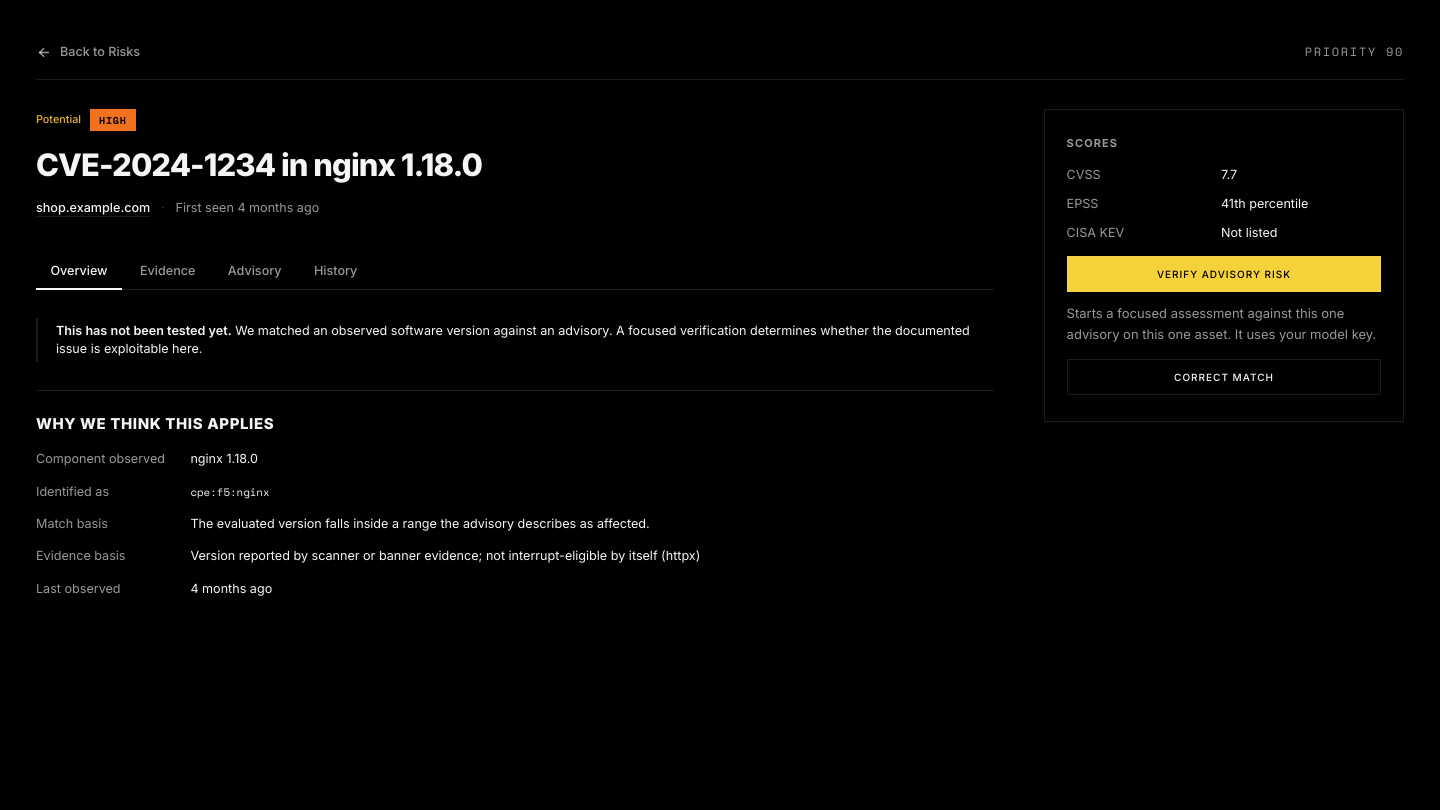
ExposureDetailPage › shows the observation and affected range behind the match
Click the tab "Evidence". click: coordinates (168, 271)
box: [126,253,210,289]
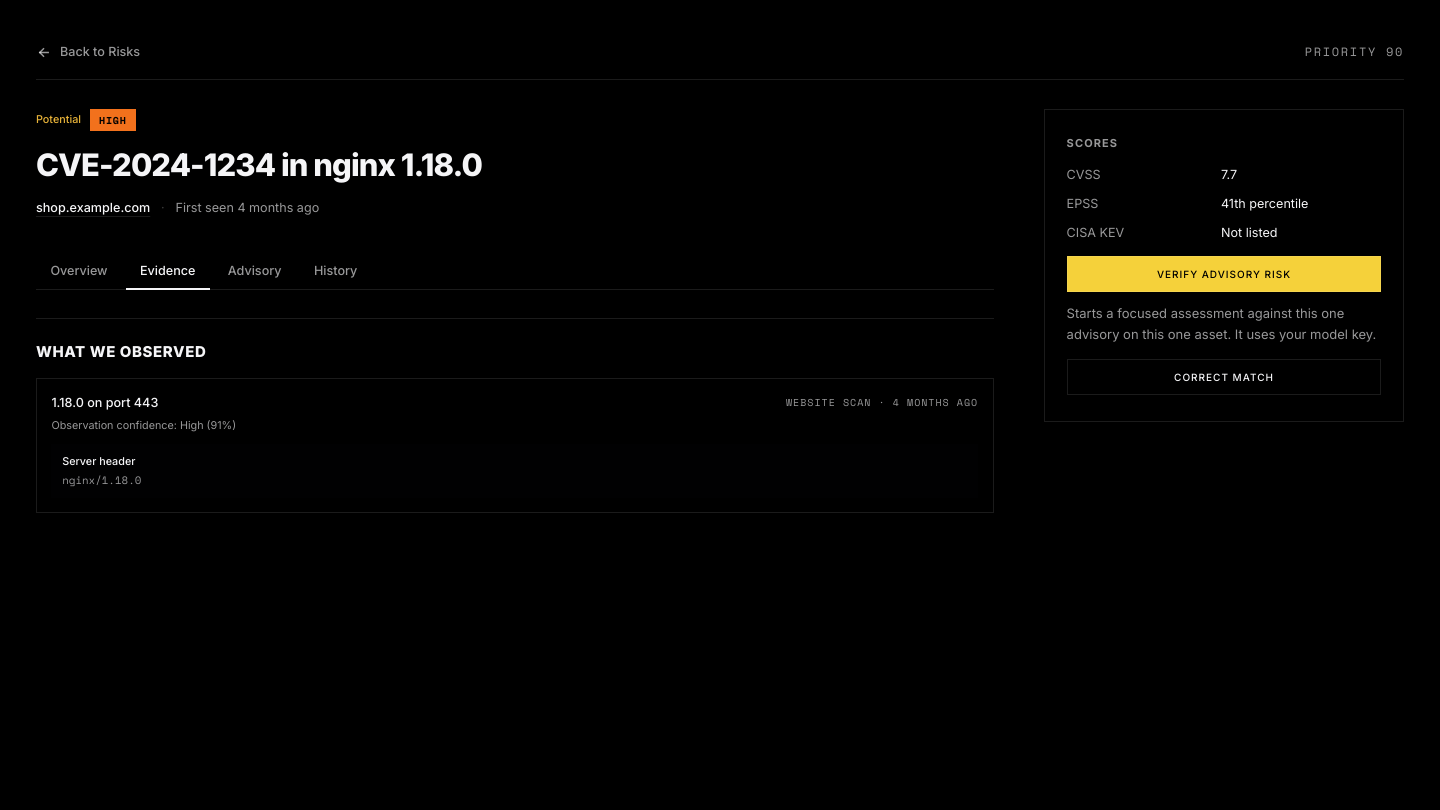
Now the text "Server header" is shown, box [62,455,135,468]
Now the text "nginx/1.18.0" is shown, box [62,472,141,488]
Click the tab "Advisory". click: coordinates (255, 271)
box: [213,253,296,289]
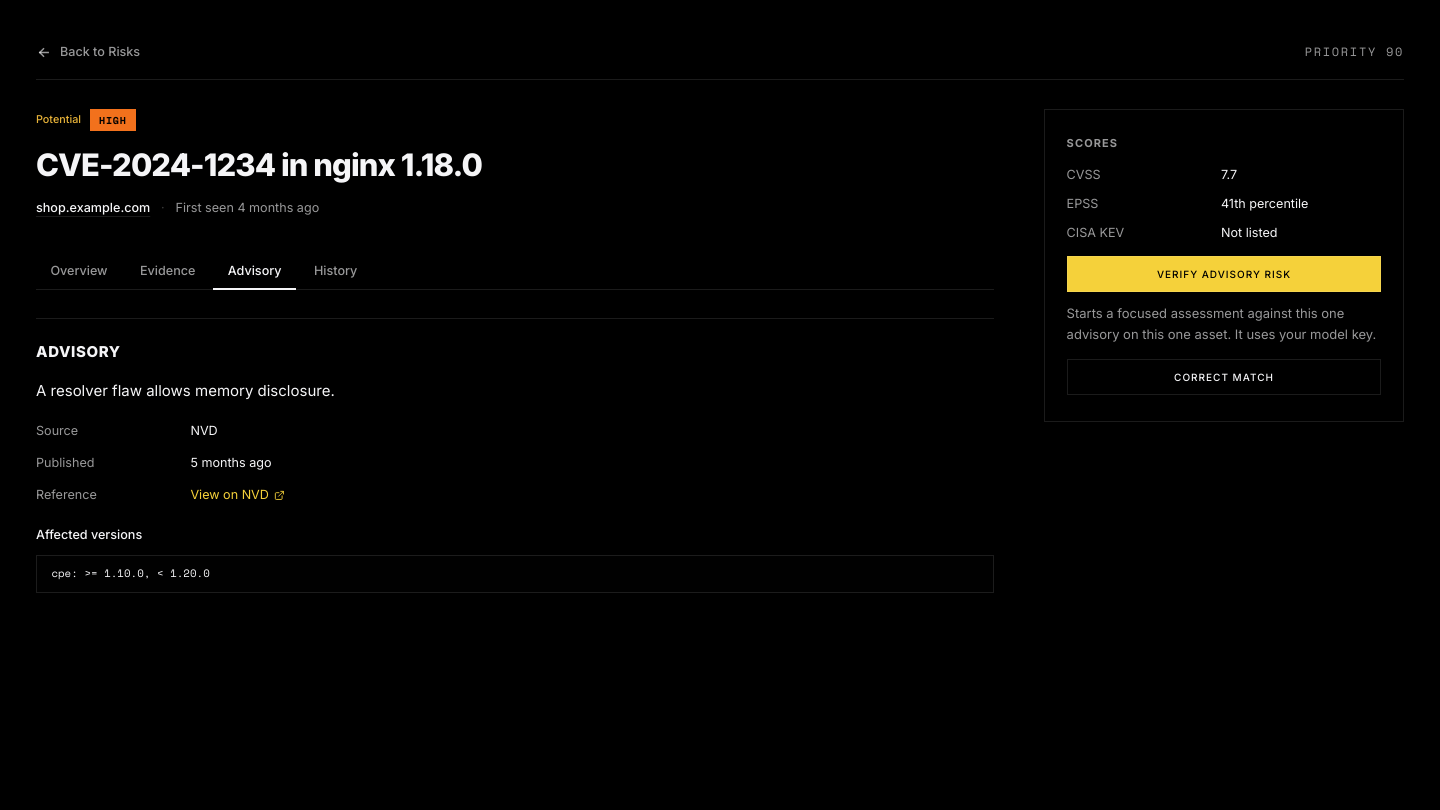
Now the list item "cpe: >= 1.10.0, < 1.20.0" is shown, box [36,555,994,593]
